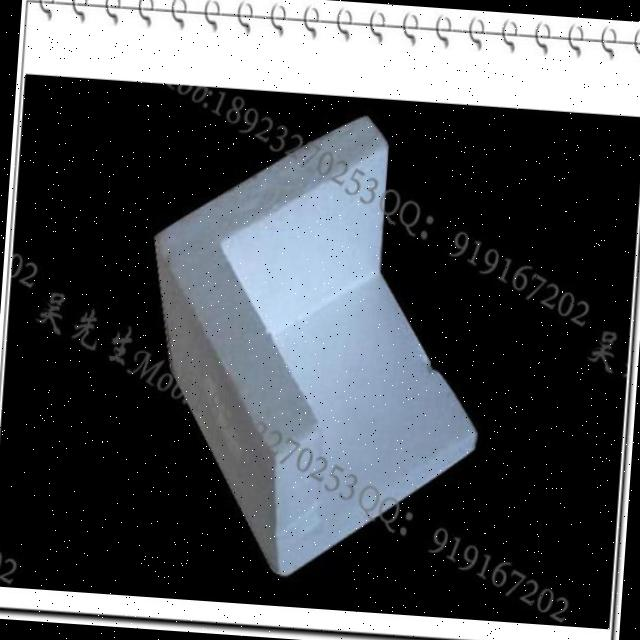styrofoam: (129, 98, 500, 590)
